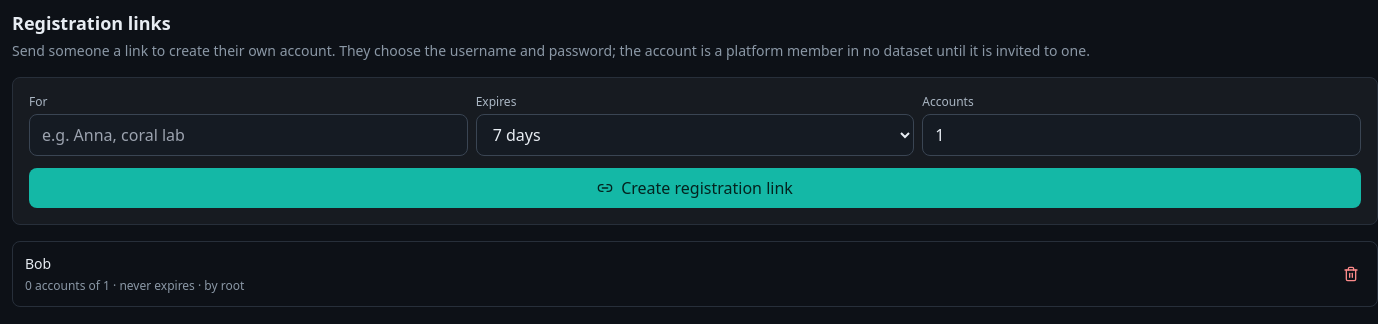
Test case: lists active links and revokes one
Click the button named "Revoke Bob": (1351, 274) [1337, 260, 1365, 288]
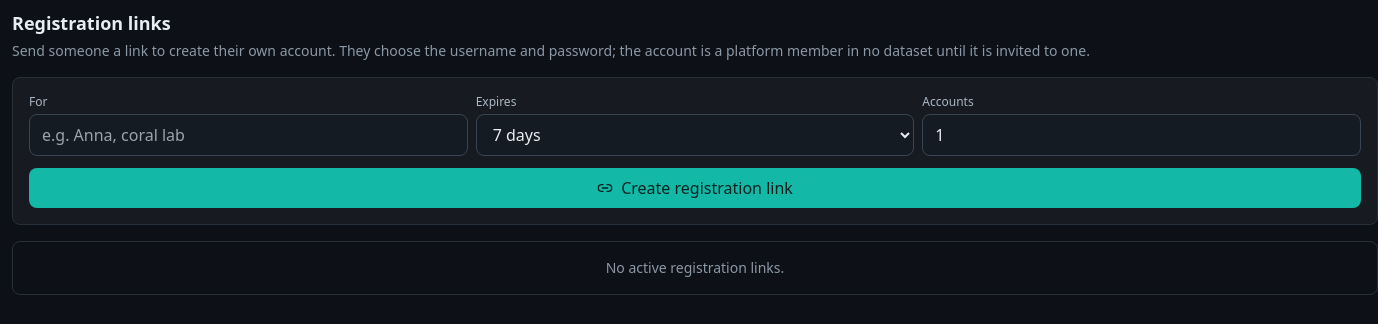
Result: the list item "No active registration links." is shown at [606, 258, 784, 277]
